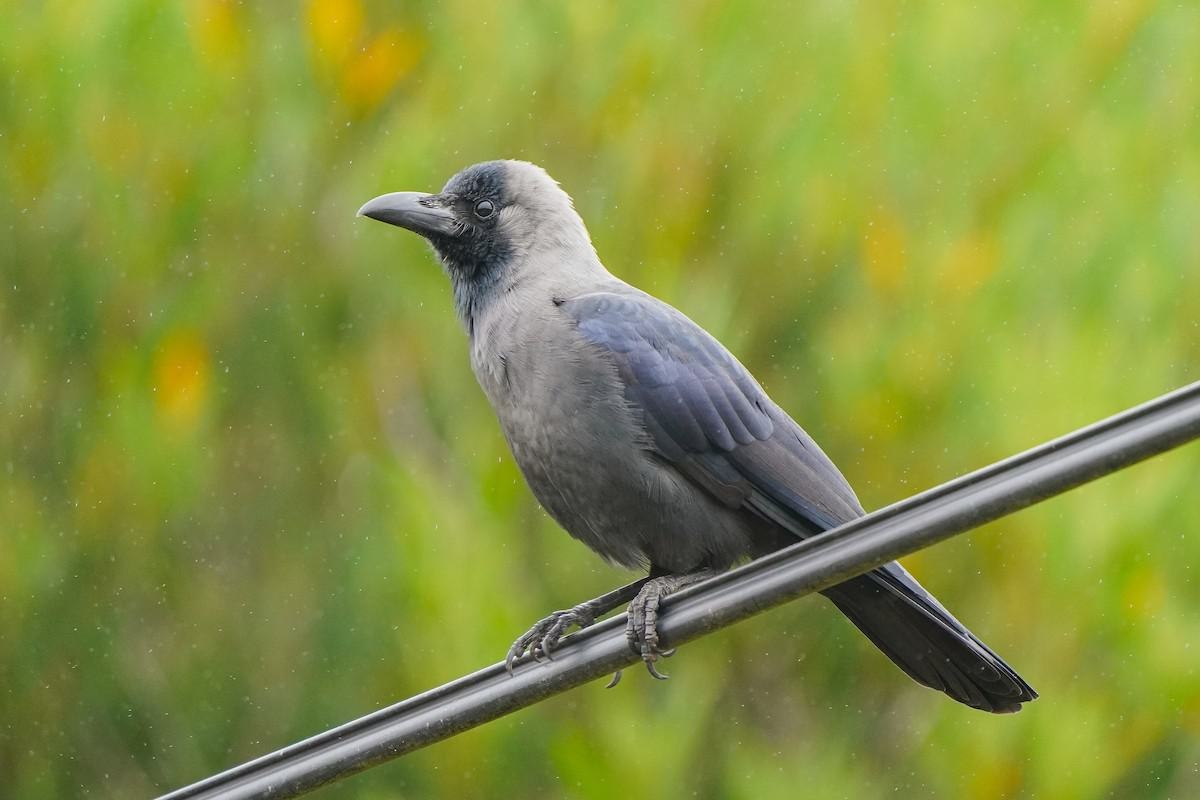crow: (351, 144, 1037, 754)
